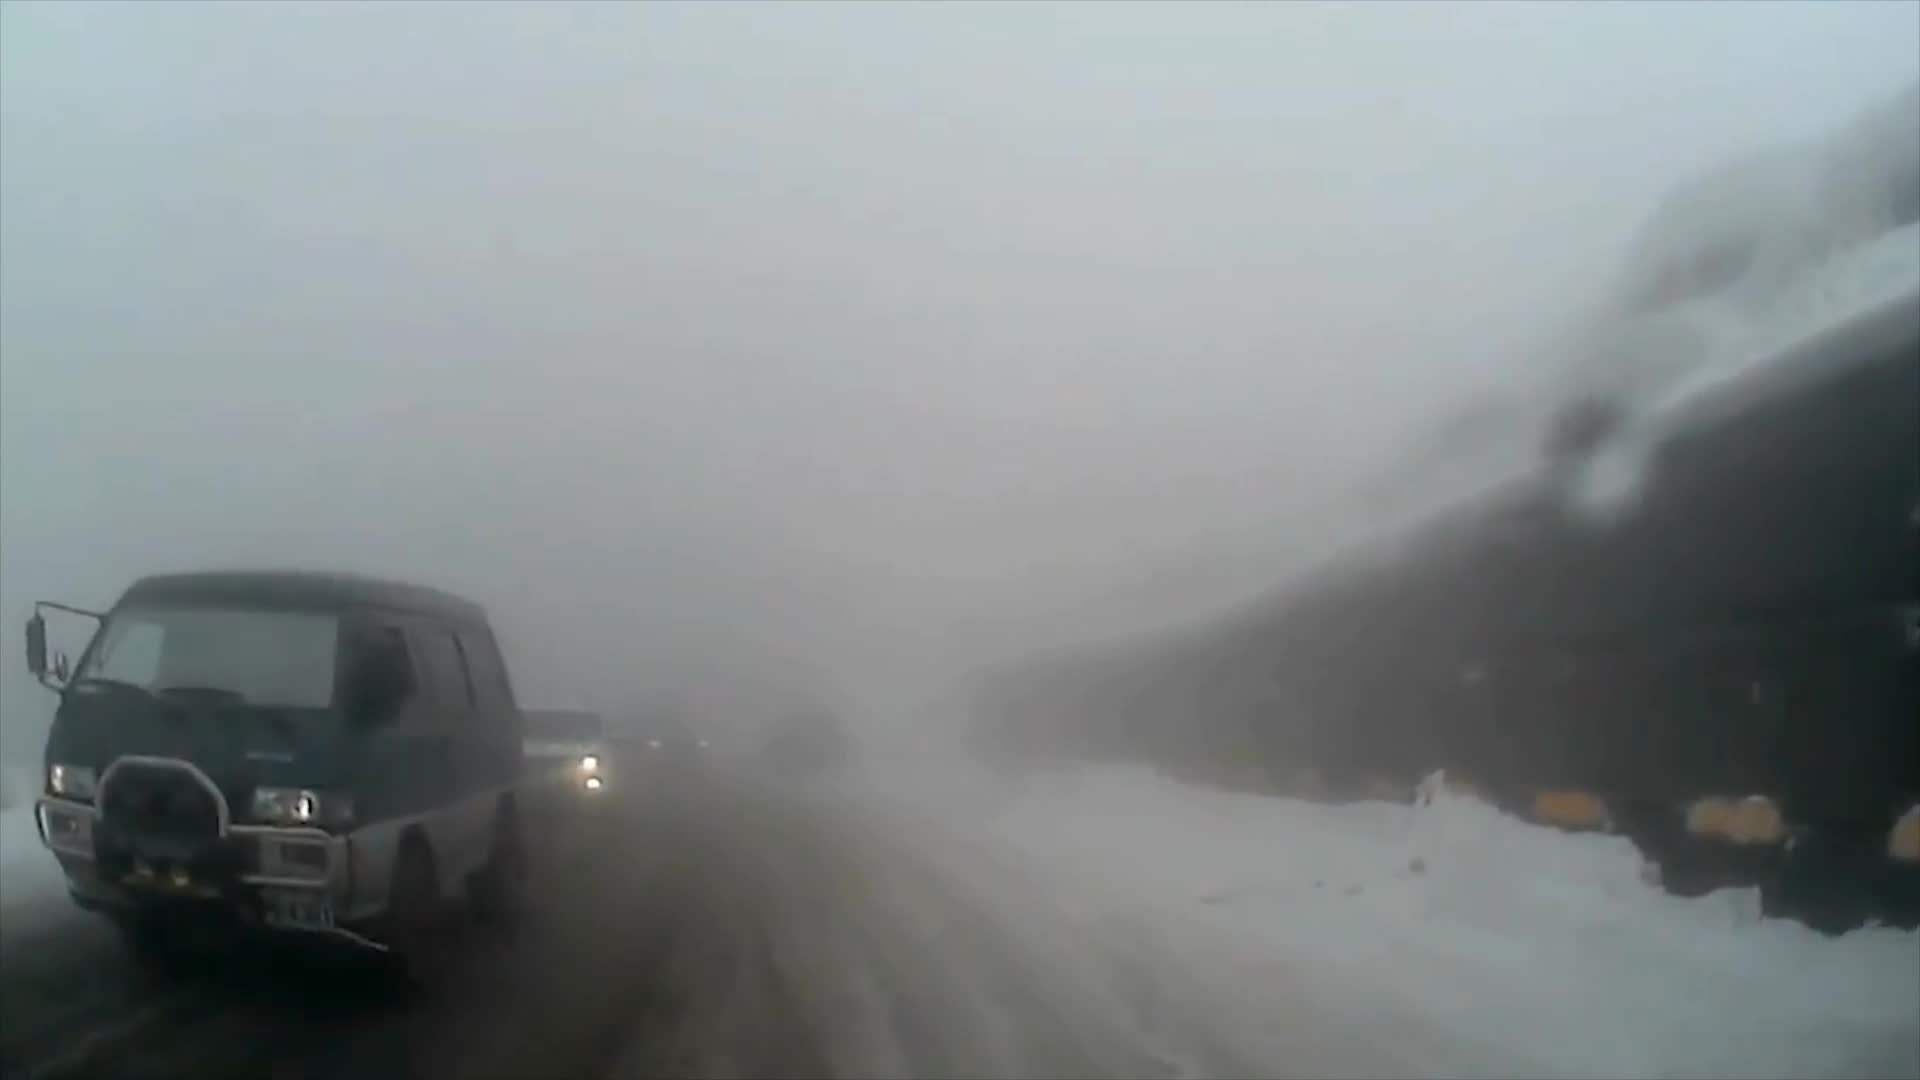vehicle: (20, 564, 530, 1007), (483, 702, 618, 818)
